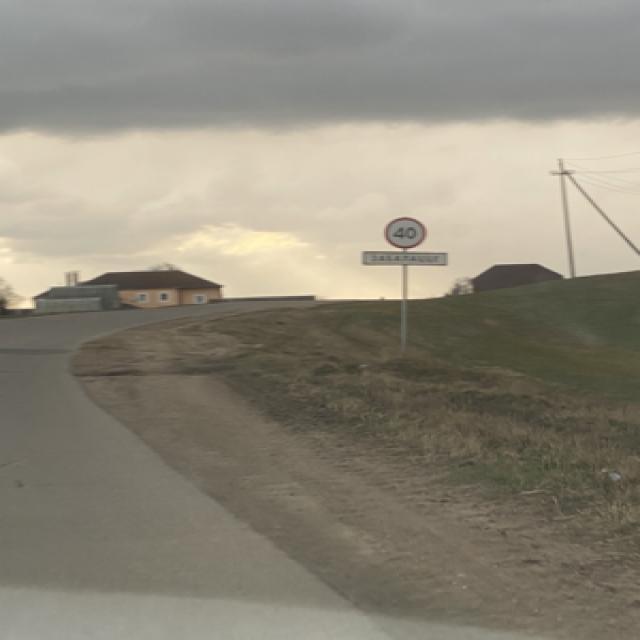speedlimit: (380, 214, 422, 248)
